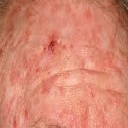Actinic: (43, 36, 61, 53)
